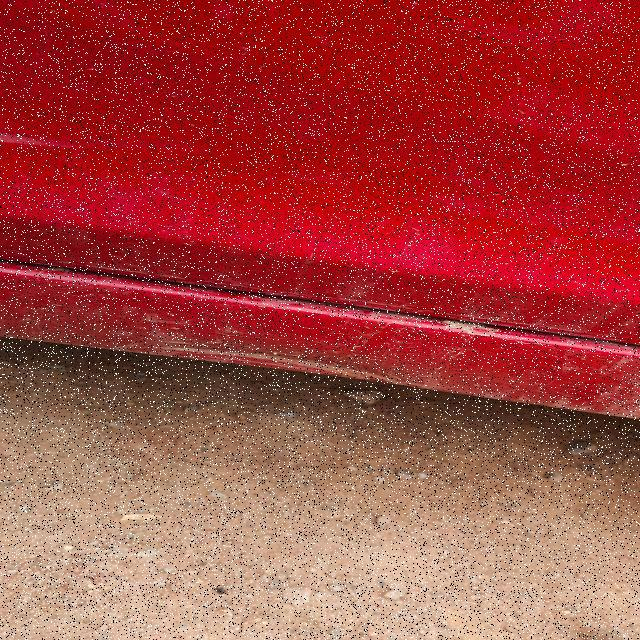RunningBoard-Dent: (5, 264, 639, 429)
